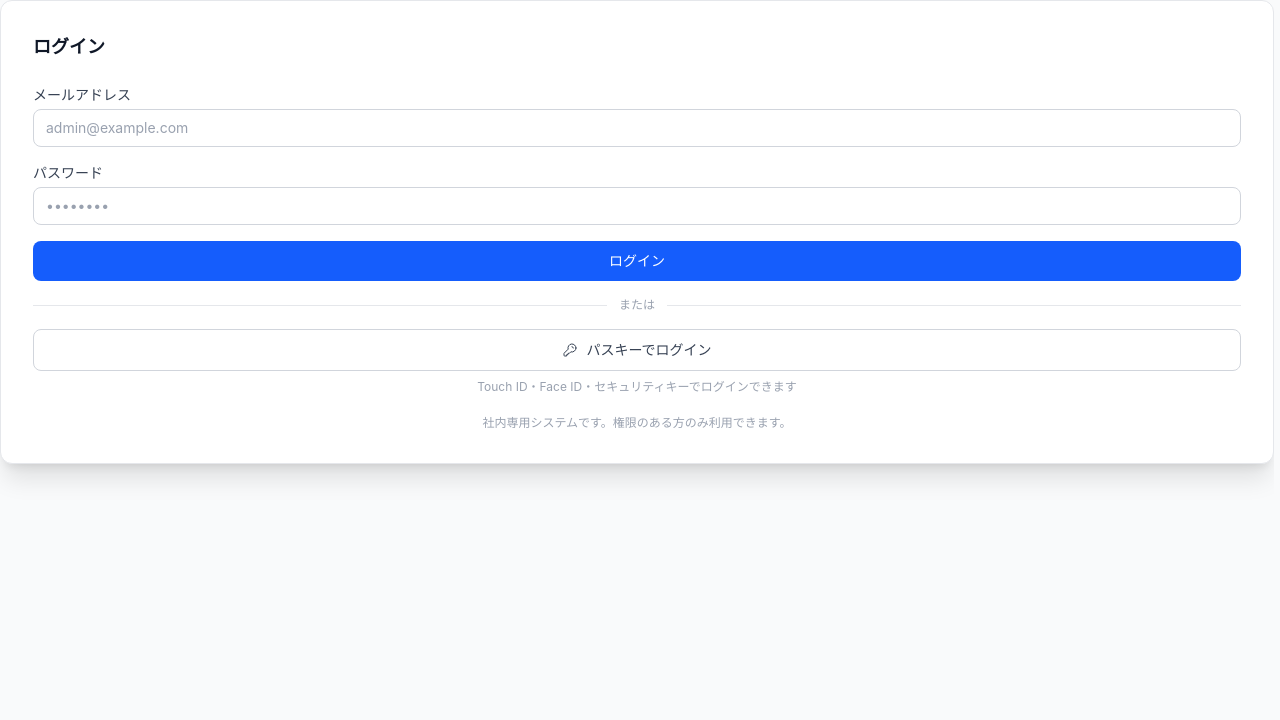
Test: LoginForm Component › APIエラー(unauthorized)の場合、エラーメッセージが表示されること
Type "wrong@example.com" into the field labelled "メールアドレス". click: (637, 128)
box: [33,109,1241,147]
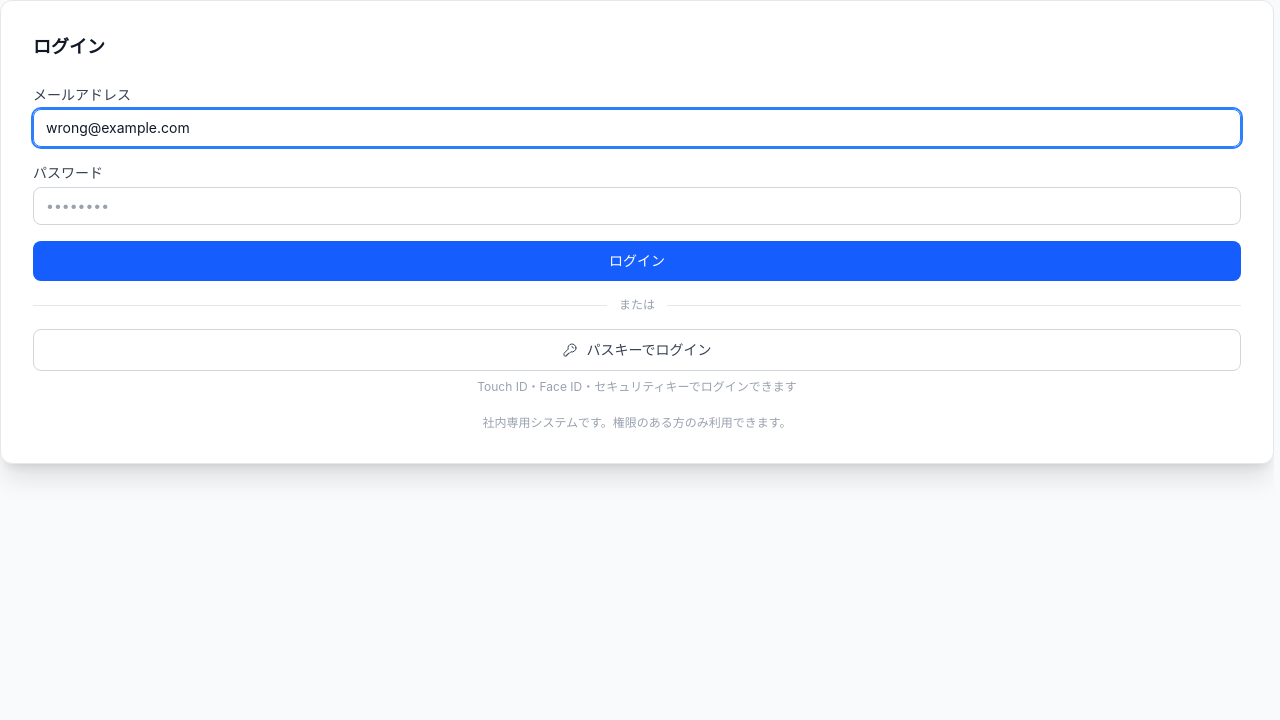
Type "wrongpass" into the password field labelled "パスワード". click: (637, 206)
box: [33,187,1241,225]
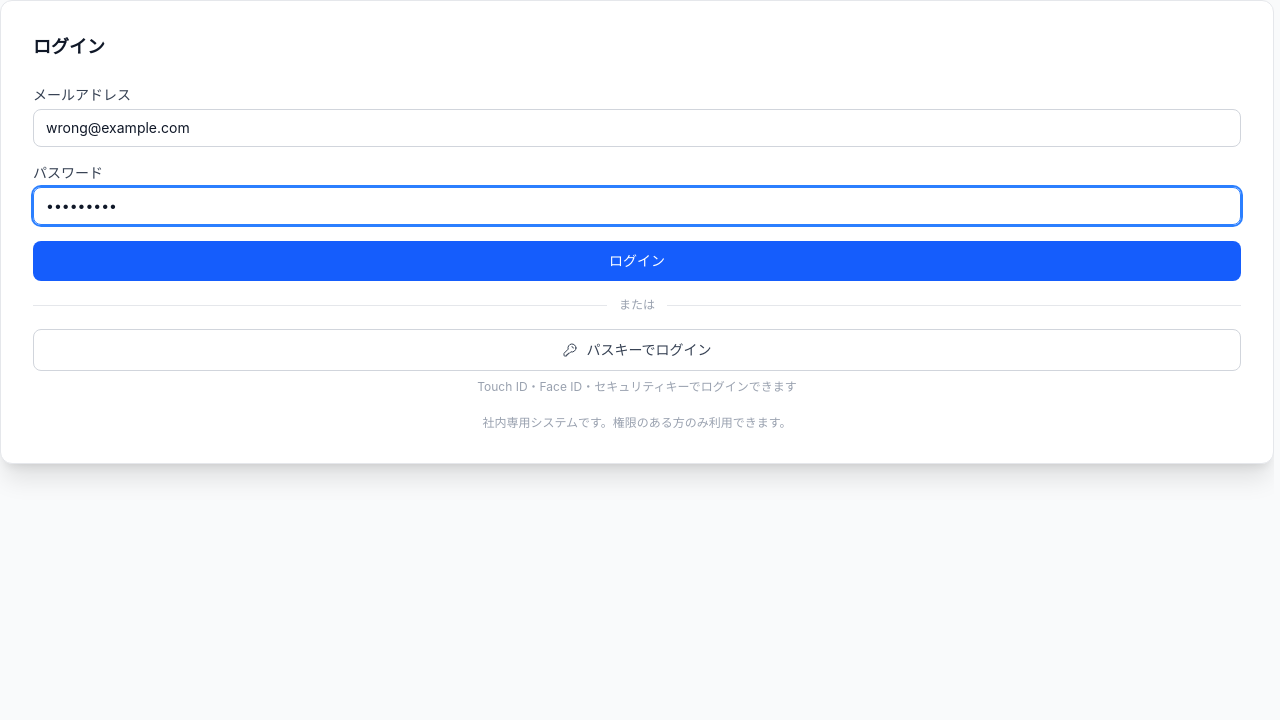
Click the button "ログイン". click: (637, 261)
box: [33,241,1241,281]
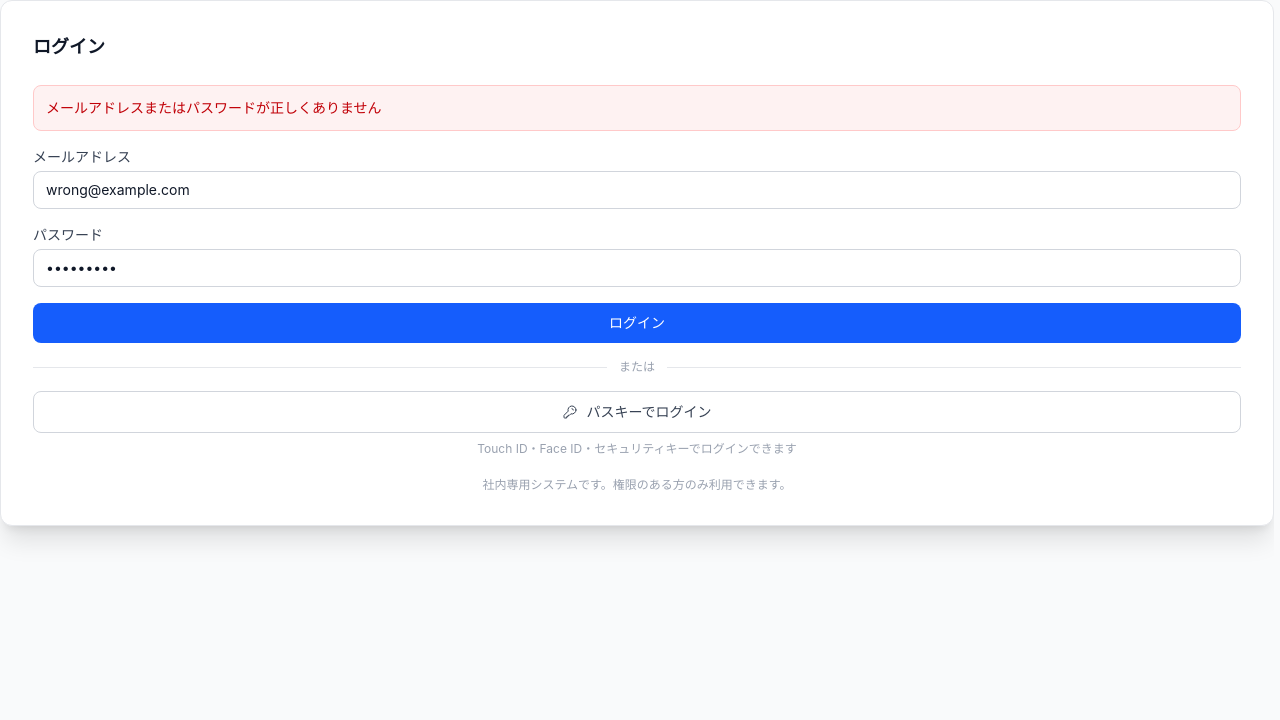
Expected: the text "メールアドレスまたはパスワードが正しくありません" is shown, [33,85,1241,131]
